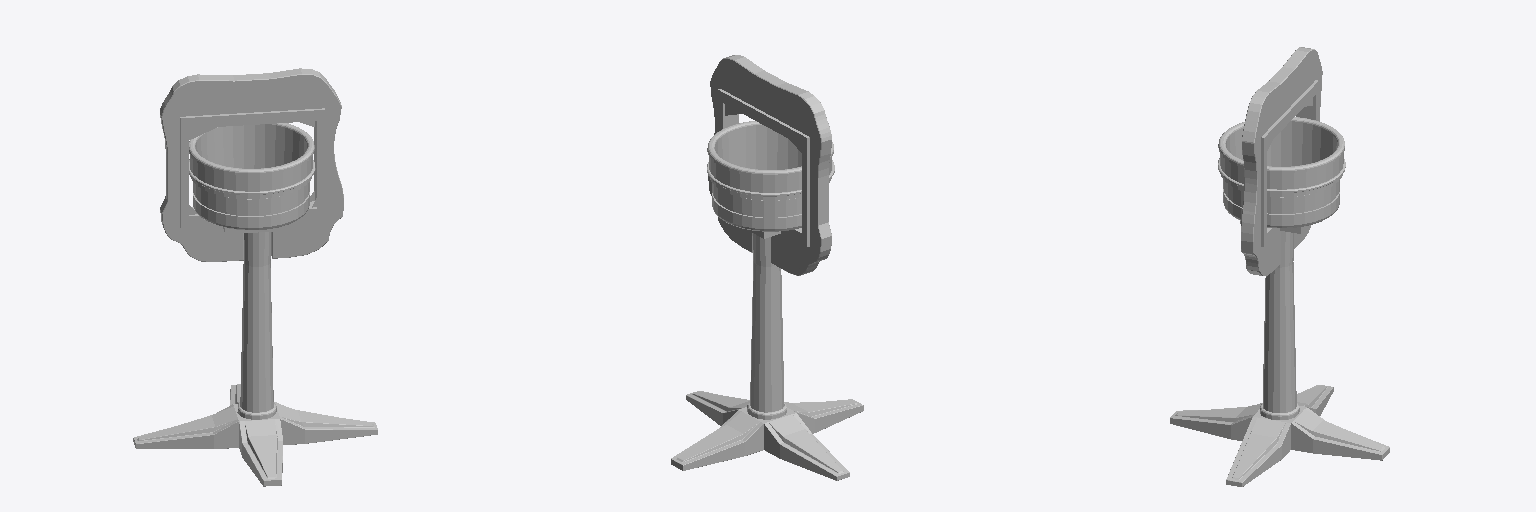
File: SetA_Stand_Style_01.obj
3 views of the same model, side by side, from view 1: azimuth 30°, elevation 25°; view 2: azimuth 150°, elevation 25°; view 3: azimuth 270°, elevation 25° (orthographic).
Visible parts, largest first — view 1: SetA_Stand_Style_01; view 2: SetA_Stand_Style_01; view 3: SetA_Stand_Style_01.
Boxes of the visible parts, x1,y1,x2,y2 form: SetA_Stand_Style_01: [133, 68, 377, 486]; SetA_Stand_Style_01: [671, 55, 863, 480]; SetA_Stand_Style_01: [1170, 47, 1389, 486].
Size of the model in its own units: 0.6922 by 1.19 by 0.6535.